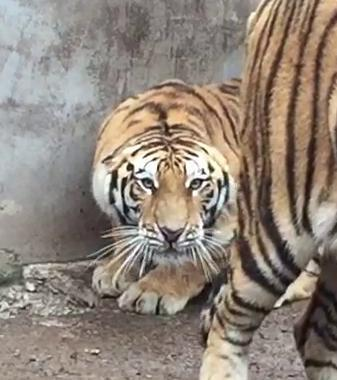tiger: (92, 79, 239, 314)
